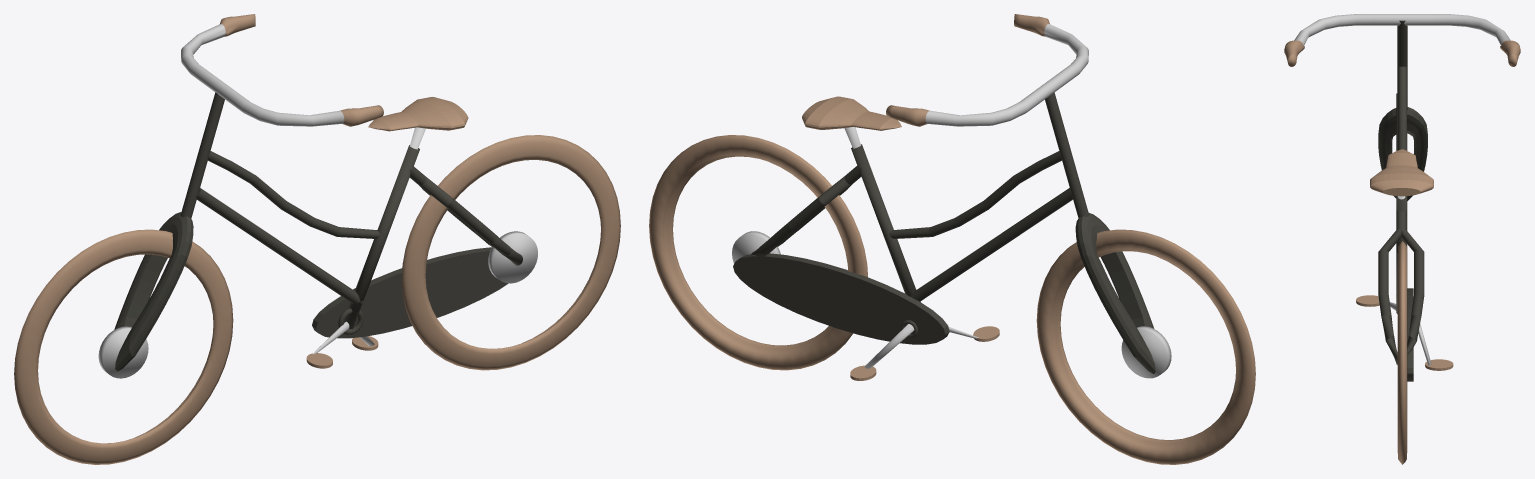
Rendered from fietsgrijs.fbx.
3 views of the same model, side by side, from view 1: azimuth 30°, elevation 25°; view 2: azimuth 150°, elevation 25°; view 3: azimuth 270°, elevation 25° (orthographic). The views are drawn at different scales.
Parts seen in each view (by area): view 1: Torus.001, Torus.002, Cylinder.005, Torus.004, Cylinder.004, Cylinder, Cylinder.003, Cone, Cylinder.001, Cylinder.006, Cylinder.007, Cylinder.002 (+1 smaller); view 2: Torus.002, Torus.001, Cylinder.005, Torus.004, Cylinder.004, Cylinder.003, Cone, Cylinder, Cylinder.001, Cylinder.006, Cylinder.002, Cylinder.009 (+1 smaller); view 3: Cylinder.004, Cylinder.006, Torus.001, Cone, Torus.004, Cylinder.001, Cylinder.002, Cylinder.005, Cylinder, Cylinder.011, Cylinder.010.
Part boxes in pixels (x1,y1,x2,y2): Torus.001: (401,135,620,370); Torus.002: (14,229,233,464); Cylinder.005: (312,247,508,338); Torus.004: (114,212,193,371); Cylinder.004: (181,14,383,126); Cylinder: (344,127,425,329); Cylinder.003: (196,188,362,303); Cone: (368,97,468,131); Cylinder.001: (208,151,379,238); Cylinder.006: (409,166,522,265); Cylinder.007: (488,231,537,283); Cylinder.002: (180,92,224,218); Torus.002: (1036,229,1255,464); Torus.001: (649,135,867,370); Cylinder.005: (733,253,949,344); Torus.004: (1075,213,1155,373); Cylinder.004: (886,14,1088,126); Cylinder.003: (912,188,1072,301); Cone: (802,96,901,130); Cylinder: (844,127,920,301); Cylinder.001: (889,151,1061,238); Cylinder.006: (751,166,861,256); Cylinder.002: (1045,92,1089,218); Cylinder.009: (1121,326,1171,378); Cylinder.004: (1284,14,1520,66); Cylinder.006: (1378,210,1424,364); Torus.001: (1397,241,1407,464); Cone: (1370,149,1433,196); Torus.004: (1378,107,1427,200); Cylinder.001: (1398,66,1406,246); Cylinder.002: (1397,20,1407,110); Cylinder.005: (1407,288,1413,381); Cylinder: (1396,196,1406,313); Cylinder.011: (1425,359,1453,370); Cylinder.010: (1356,295,1379,306).
Size of the model in its own units: 285 by 160 by 109.
